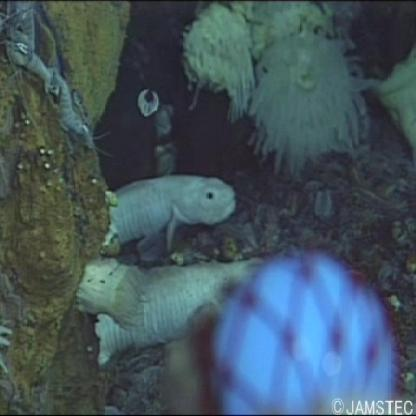Bio: (69, 167, 266, 368), (1, 1, 106, 162)
